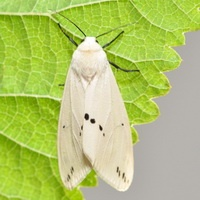insect: (58, 18, 133, 190)
